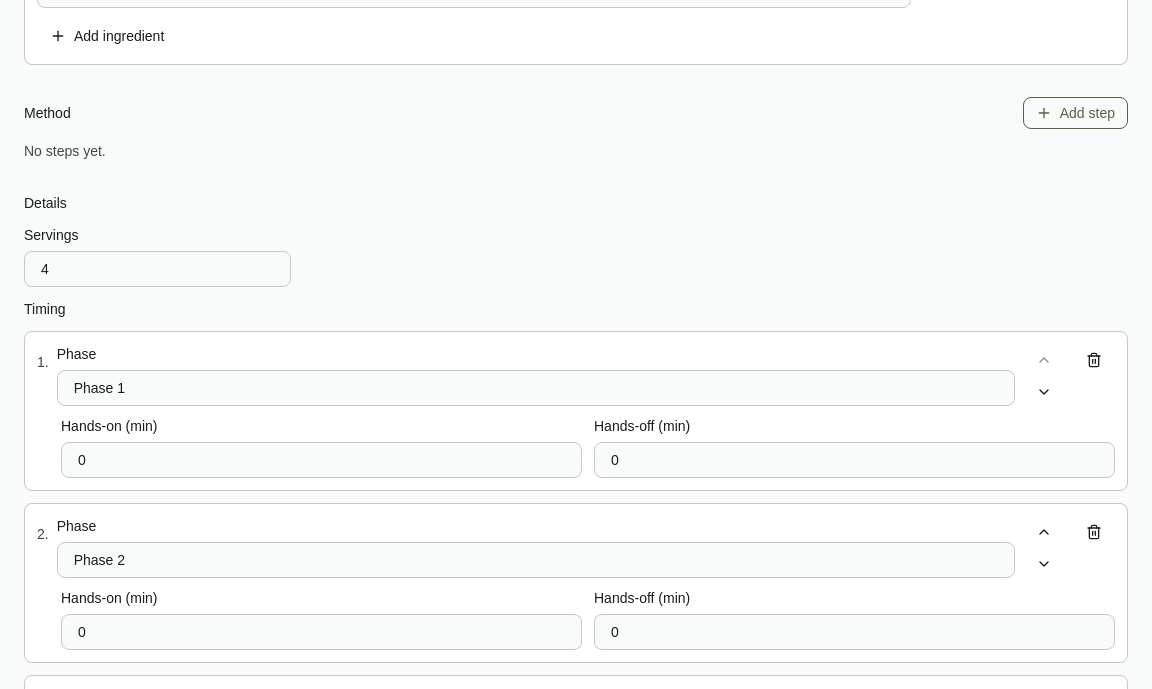
Test: RecipeEditPage — the phase editor › offers Add again once the strip is back under the cap
(page scrolled)
Click the button named "Remove phase" in the row of "1.". click: (1094, 360)
box: [1073,344,1115,376]
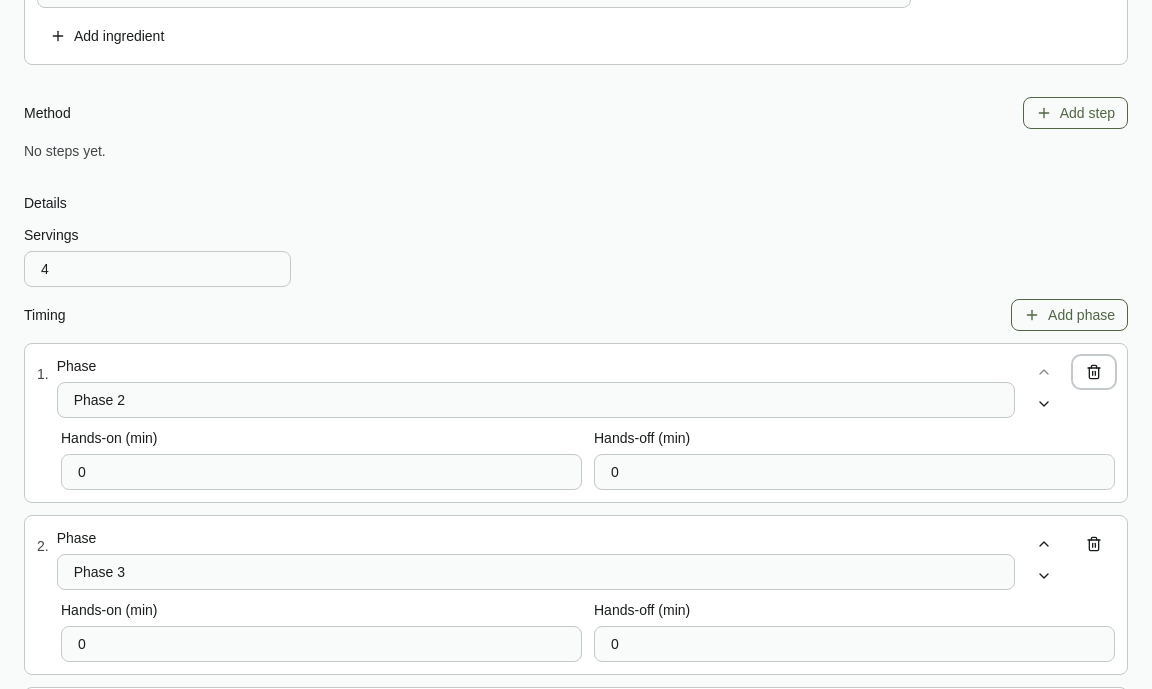
Result: the button with test id "recipe-add-phase-btn" is shown at [1011,299,1128,331]
